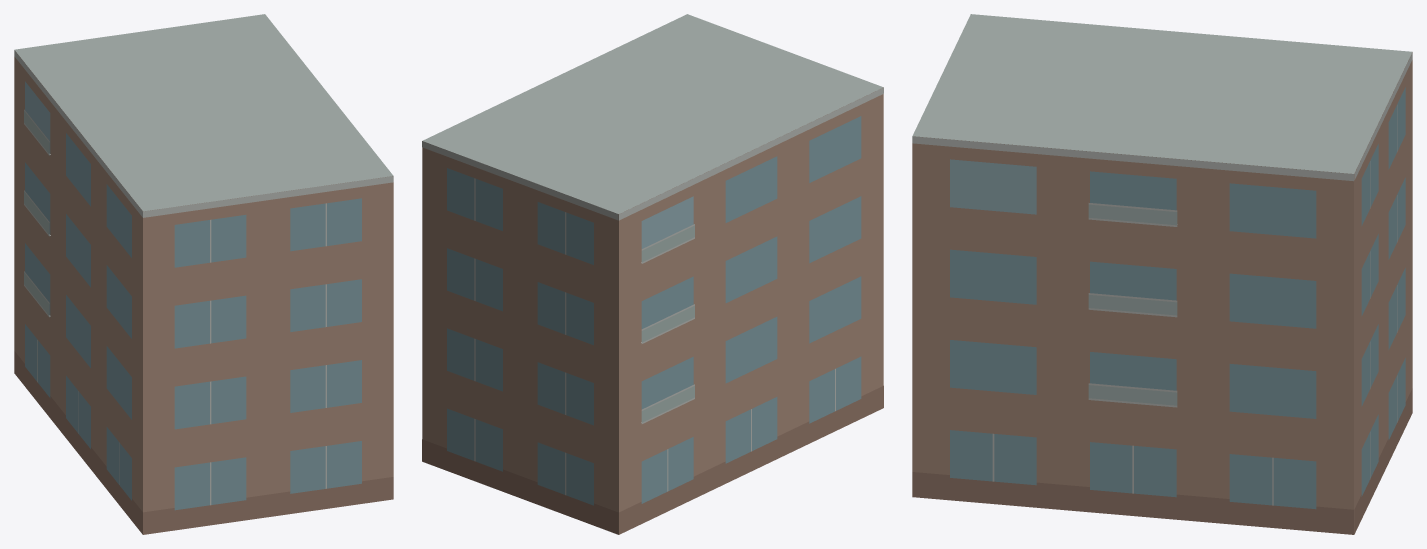
File: residential-7e38d41f-d8ea-4c4c-9eac-26719821961a.glb
3 renders of one model, left to right at view 1: azimuth 30°, elevation 25°; view 2: azimuth 150°, elevation 25°; view 3: azimuth 270°, elevation 25°, orthographic. The views are drawn at different scales.
Visible parts, largest first — view 1: residential-7e38d41f-d8ea-4c4c-9eac-26719821961a.tmp; view 2: residential-7e38d41f-d8ea-4c4c-9eac-26719821961a.tmp; view 3: residential-7e38d41f-d8ea-4c4c-9eac-26719821961a.tmp.
Boxes of the visible parts, x1,y1,x2,y2 form: residential-7e38d41f-d8ea-4c4c-9eac-26719821961a.tmp: (14,14,393,534); residential-7e38d41f-d8ea-4c4c-9eac-26719821961a.tmp: (422,14,883,534); residential-7e38d41f-d8ea-4c4c-9eac-26719821961a.tmp: (912,14,1412,534).
Size of the model in its own units: 11.61 by 12.2 by 15.34.
